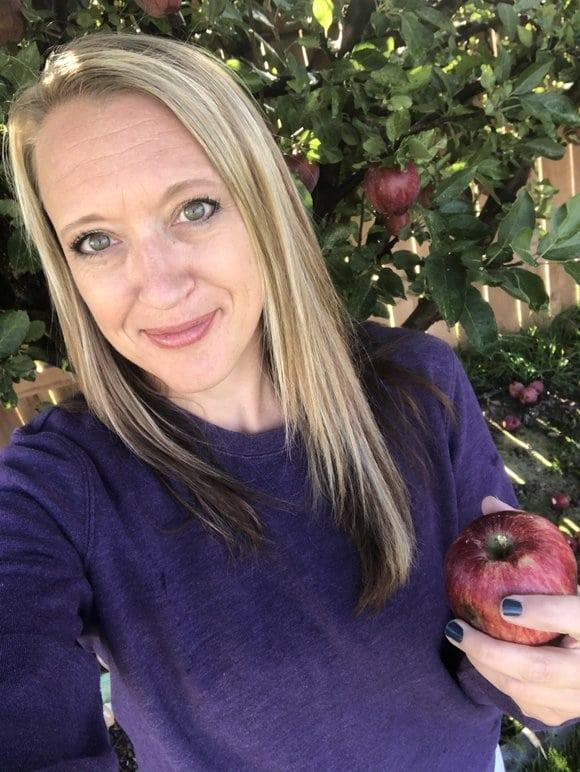apple: (441, 510, 577, 638), (362, 164, 417, 217)
